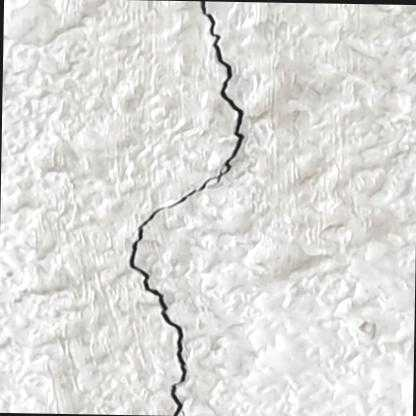crack: (128, 0, 244, 415)
